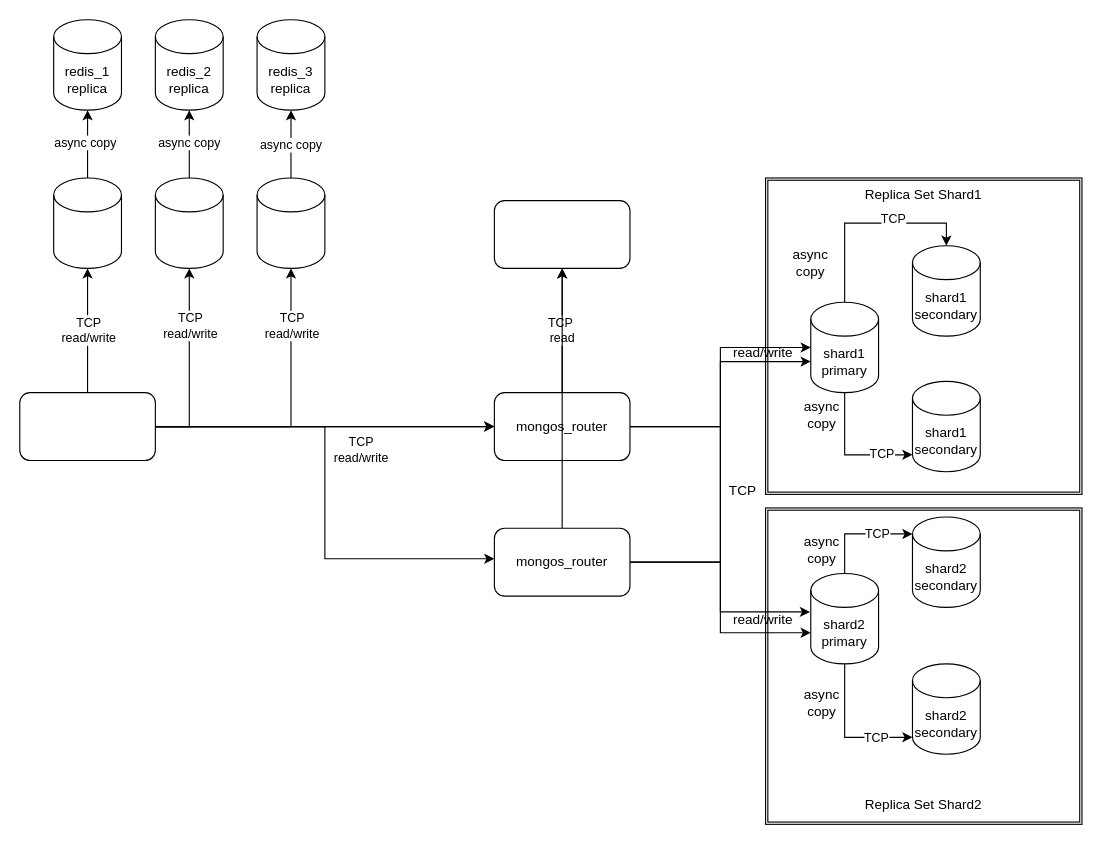
The diagram is 1102 pixels wide and 844 high, and some of its shapes have lost their labels. Each missing label, with the centre of its shape:
configSrv: [561,233]
pymongo-api: [87,426]
redis_1: [87,222]
redis_2: [188,222]
redis_3: [290,222]
